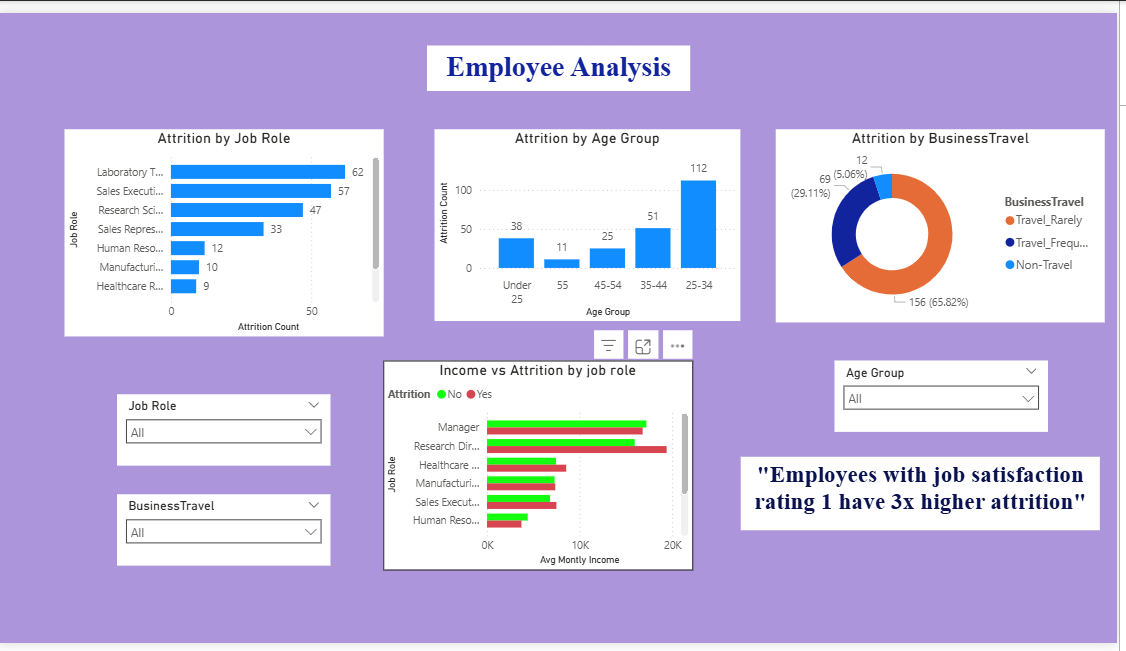

The dashboard page shown, as its layout file describes it:
{"tool":"powerbi","page":{"name":"Employee Analysis","canvas":[1280,720],"ordinal":1},"visuals":[{"type":"textbox","box":[490.8,37.1,301,51.9],"z":0},{"type":"clusteredBarChart","title":"Attrition by Job Role","fields":{"Category":["HR Employee Attrition.Job Role"],"Y":["HR Employee Attrition.Attrition Count"]},"box":[77,132.6,364.9,236.6],"z":1000},{"type":"clusteredColumnChart","title":"Attrition by Age Group","fields":{"Category":["HR Employee Attrition.Age Group"],"Y":["HR Employee Attrition.Attrition Count"]},"box":[500.3,132.6,349.2,219.5],"z":2000},{"type":"clusteredBarChart","title":"Income vs Attrition by job role","fields":{"Category":["HR Employee Attrition.Job Role"],"Y":["HR Employee Attrition.Avg Montly Income"],"Series":["HR Employee Attrition.Attrition"]},"box":[441.9,397.7,353.5,239.5],"z":3000},{"type":"donutChart","title":"Attrition by BusinessTravel","fields":{"Category":["HR Employee Attrition.BusinessTravel"],"Y":["HR Employee Attrition.Attrition Count"]},"box":[889.4,132.6,376.3,220.9],"z":4000},{"type":"slicer","fields":{"Values":["HR Employee Attrition.Age Group"]},"box":[956.4,397.7,243.7,81.2],"z":5000},{"type":"slicer","fields":{"Values":["HR Employee Attrition.Job Role"]},"box":[136.8,436.2,243.7,81.2],"z":6000},{"type":"slicer","fields":{"Values":["HR Employee Attrition.BusinessTravel"]},"box":[136.8,550.2,243.7,81.2],"z":7000},{"type":"textbox","box":[849.5,507.4,410.5,84.1],"z":8000}]}

Visuals, with their boxes in screenshot pixels (x1, y1, x2, y2), scaled from the page's 1280x720 canvas onto the 1126x651 screenshot:
textbox: x1=432 y1=34 x2=697 y2=80
"Attrition by Job Role" clusteredBarChart: x1=68 y1=120 x2=389 y2=334
"Attrition by Age Group" clusteredColumnChart: x1=440 y1=120 x2=747 y2=318
"Income vs Attrition by job role" clusteredBarChart: x1=389 y1=360 x2=700 y2=576
"Attrition by BusinessTravel" donutChart: x1=782 y1=120 x2=1113 y2=320
slicer - HR Employee Attrition.Age Group: x1=841 y1=360 x2=1056 y2=433
slicer - HR Employee Attrition.Job Role: x1=120 y1=394 x2=335 y2=468
slicer - HR Employee Attrition.BusinessTravel: x1=120 y1=497 x2=335 y2=571
textbox: x1=747 y1=459 x2=1108 y2=535
